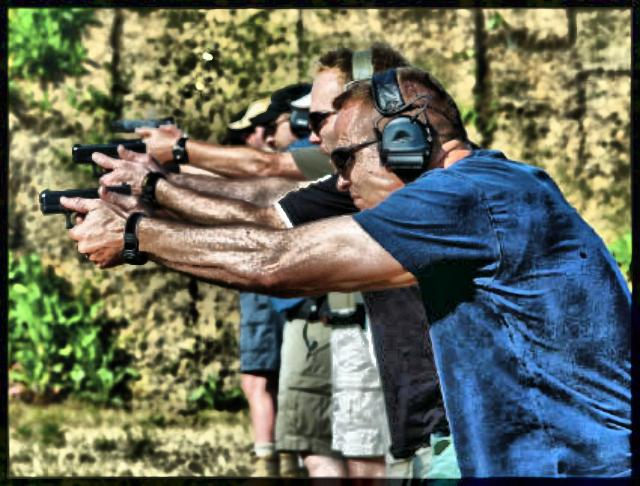pistol: (37, 181, 131, 229), (107, 114, 173, 170), (70, 136, 146, 178)
